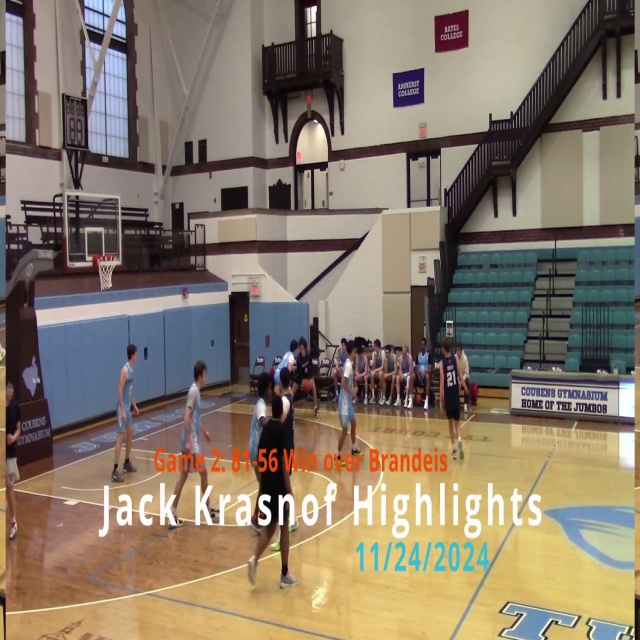Basketball: (452, 439, 464, 461), (303, 379, 313, 392)
